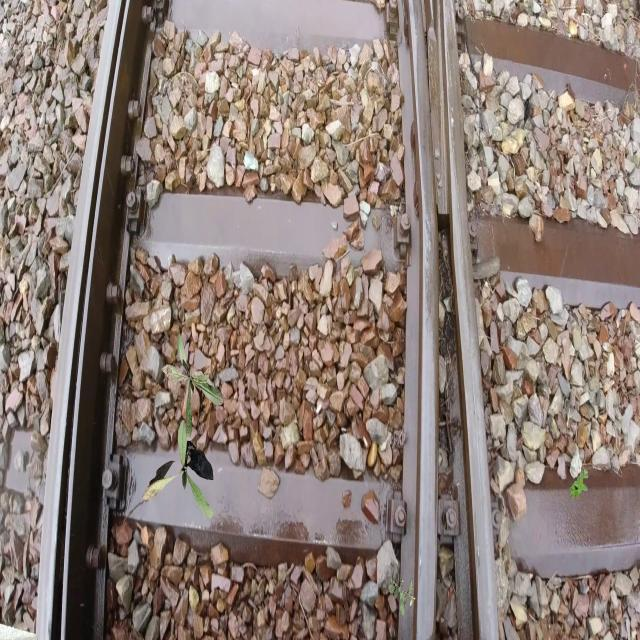Plant: (161, 327, 225, 439), (142, 420, 213, 520), (388, 576, 416, 617), (569, 469, 588, 502)
